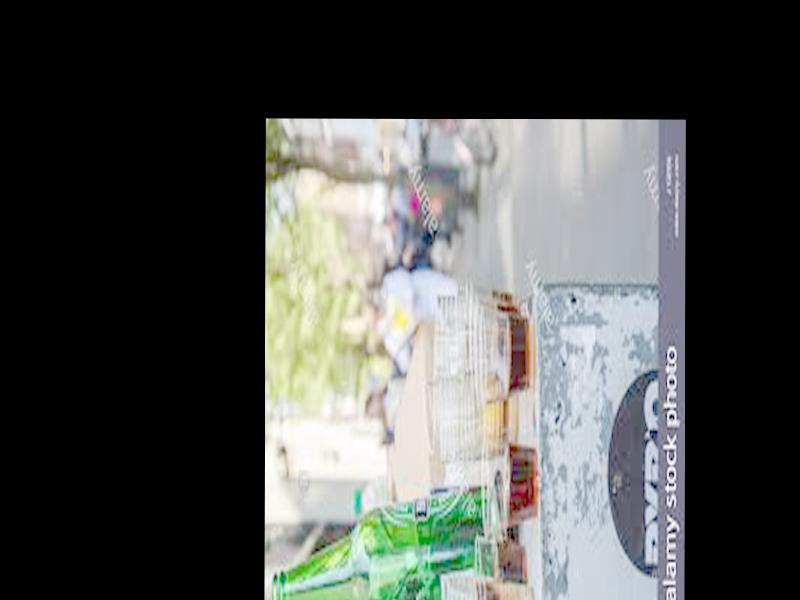Beer: (272, 481, 512, 600)
